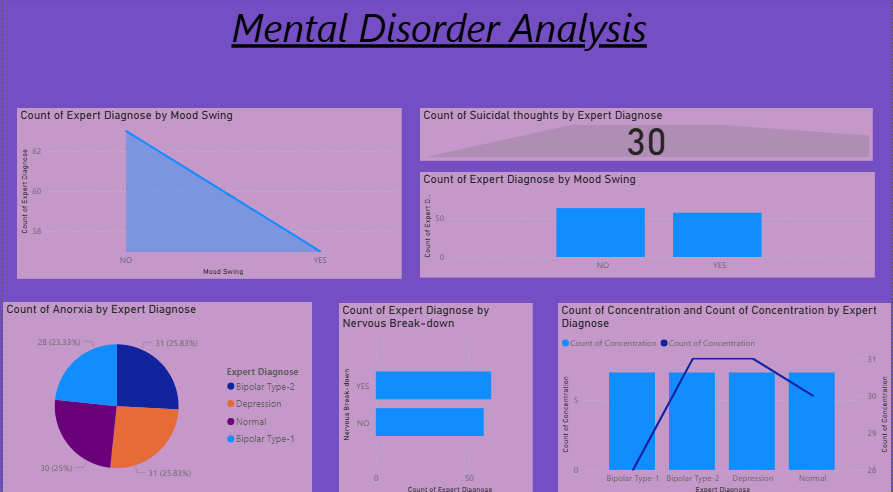

This screenshot's page, from the dashboard's own definition file:
{"tool":"powerbi","page":{"name":"Page 1","canvas":[1280,720],"ordinal":0},"visuals":[{"type":"pieChart","fields":{"Category":["mental_disorders_dataset (3).Expert Diagnose"],"Y":["CountNonNull(mental_disorders_dataset (3).Anorxia)"]},"box":[0,438.5,445.3,281.1],"z":0},{"type":"columnChart","fields":{"Category":["mental_disorders_dataset (3).Mood Swing"],"Y":["CountNonNull(mental_disorders_dataset (3).Expert Diagnose)"]},"box":[601.1,252.3,655.2,152.4],"z":1},{"type":"kpi","fields":{"TrendLine":["mental_disorders_dataset (3).Expert Diagnose"],"Indicator":["CountNonNull(mental_disorders_dataset (3).Suicidal thoughts)"]},"box":[601.1,159.2,651.9,76.2],"z":2},{"type":"stackedAreaChart","fields":{"Y":["CountNonNull(mental_disorders_dataset (3).Expert Diagnose)"],"Category":["mental_disorders_dataset (3).Mood Swing"]},"box":[20.3,159.2,553.7,245.5],"z":3},{"type":"barChart","fields":{"Category":["mental_disorders_dataset (3).Nervous Break-down"],"Y":["CountNonNull(mental_disorders_dataset (3).Expert Diagnose)"]},"box":[484.2,440.2,279.4,279.4],"z":4},{"type":"lineClusteredColumnComboChart","fields":{"Category":["mental_disorders_dataset (3).Expert Diagnose"],"Y":["Count(mental_disorders_dataset (3).Concentration)"],"Y2":["CountNonNull(mental_disorders_dataset (3).Concentration)"]},"box":[799.2,440.2,480.8,279.4],"z":5},{"type":"textbox","box":[0,0,1256.3,118.5],"z":7}]}

Visuals, with their boxes in screenshot pixels (x1, y1, x2, y2), scaled from the page's 1280x720 canvas onto the 893x492 screenshot:
pieChart - mental_disorders_dataset (3).Expert Diagnose x CountNonNull(mental_disorders_dataset (3).Anorxia): [x1=0, y1=300, x2=311, y2=491]
columnChart - mental_disorders_dataset (3).Mood Swing x CountNonNull(mental_disorders_dataset (3).Expert Diagnose): [x1=419, y1=172, x2=876, y2=277]
kpi - mental_disorders_dataset (3).Expert Diagnose x CountNonNull(mental_disorders_dataset (3).Suicidal thoughts): [x1=419, y1=109, x2=874, y2=161]
stackedAreaChart - CountNonNull(mental_disorders_dataset (3).Expert Diagnose) x mental_disorders_dataset (3).Mood Swing: [x1=14, y1=109, x2=400, y2=277]
barChart - mental_disorders_dataset (3).Nervous Break-down x CountNonNull(mental_disorders_dataset (3).Expert Diagnose): [x1=338, y1=301, x2=533, y2=491]
lineClusteredColumnComboChart - mental_disorders_dataset (3).Expert Diagnose x Count(mental_disorders_dataset (3).Concentration): [x1=558, y1=301, x2=892, y2=491]
textbox: [x1=0, y1=0, x2=876, y2=81]
